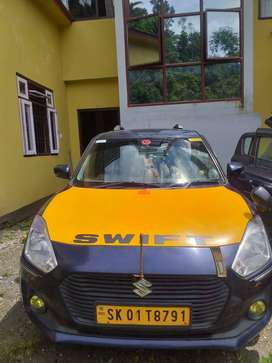SK01T8791: (96, 306, 190, 326)
